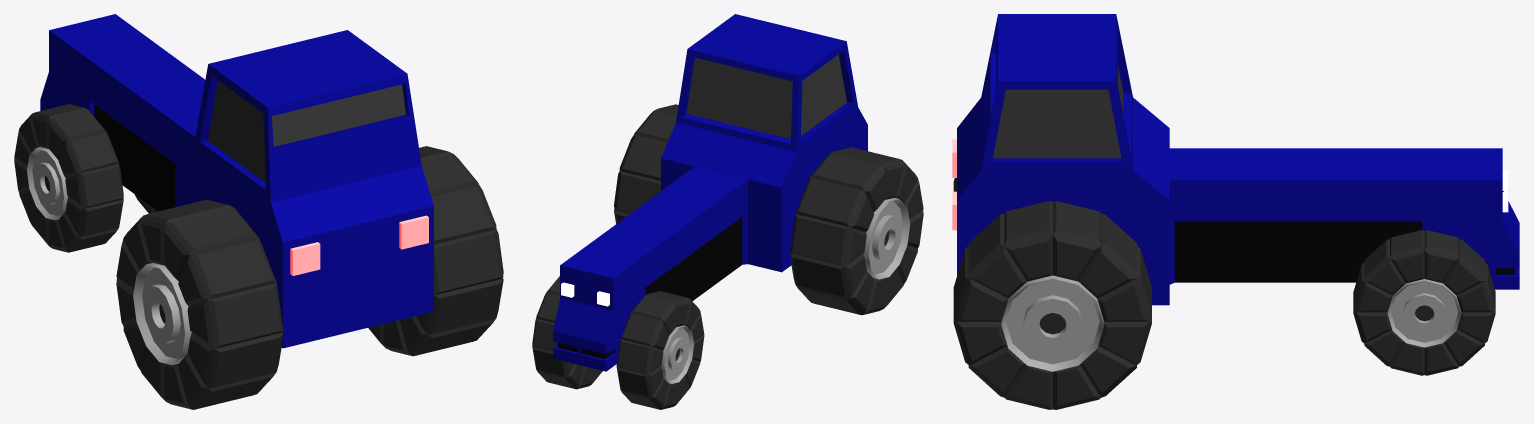
The model's file is Tractor.fbx.
3 renders of one model, left to right at view 1: azimuth 30°, elevation 25°; view 2: azimuth 150°, elevation 25°; view 3: azimuth 270°, elevation 25°, orthographic. The views are drawn at different scales.
Visible parts, largest first — view 1: Tractor; view 2: Tractor; view 3: Tractor.
Part boxes in pixels (x1,y1,x2,y2): Tractor: (14,14,503,409); Tractor: (532,14,923,409); Tractor: (952,14,1519,409).
Size of the model in its own units: 156 by 147 by 256.
